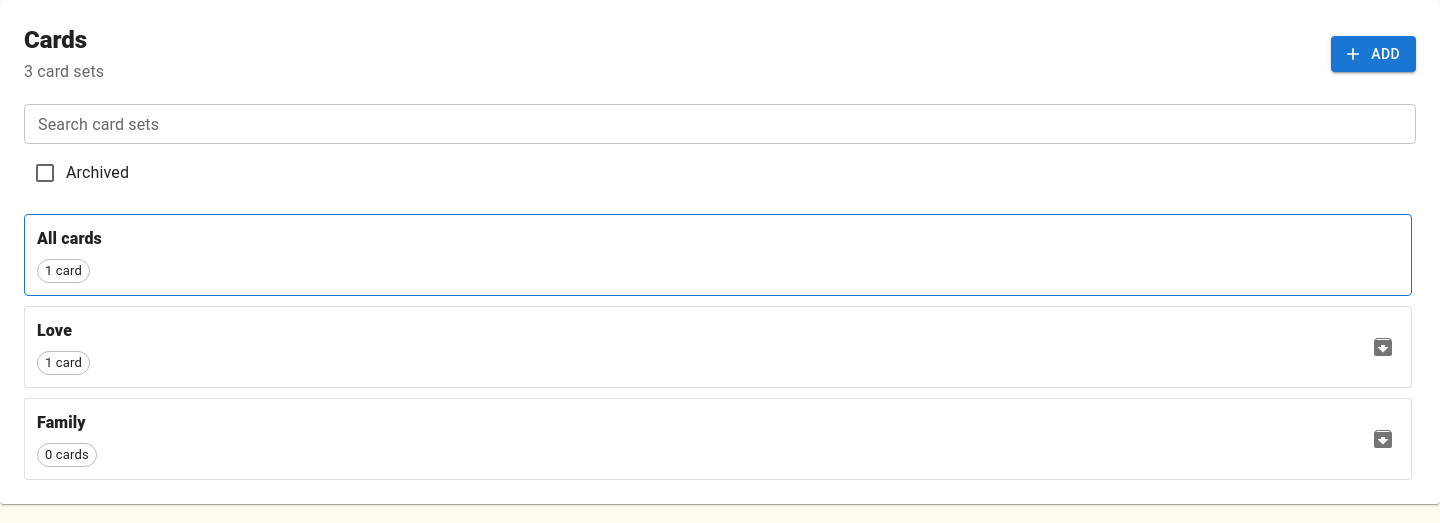
it: CardSetListView archive browsing › filters active and archived card sets and searches localized names
Expected: the element with test id "card_set_list__tile__all-cards" is shown, [24,214,1412,296]
Expected: the element with test id "card_set_list__tile__set-love" is shown, [24,306,1412,388]
Type "сем" into the field labelled "Search card sets" at (720, 124), box [24,104,1416,144]
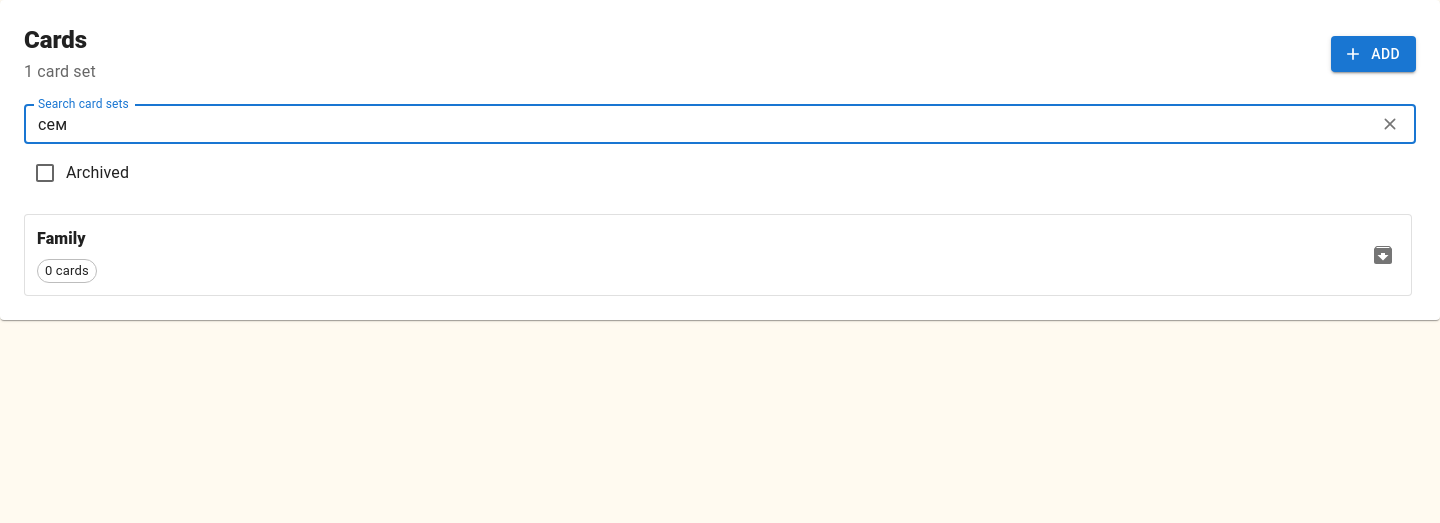
Expected: the element with test id "card_set_list__tile__set-family" is shown, [24,214,1412,296]
Now the element with test id "card_set_list__tile__all-cards" is gone
Now the element with test id "card_set_list__tile__set-love" is gone
Click the button named "Clear card set search" at (1390, 124), box [1375,109,1405,139]
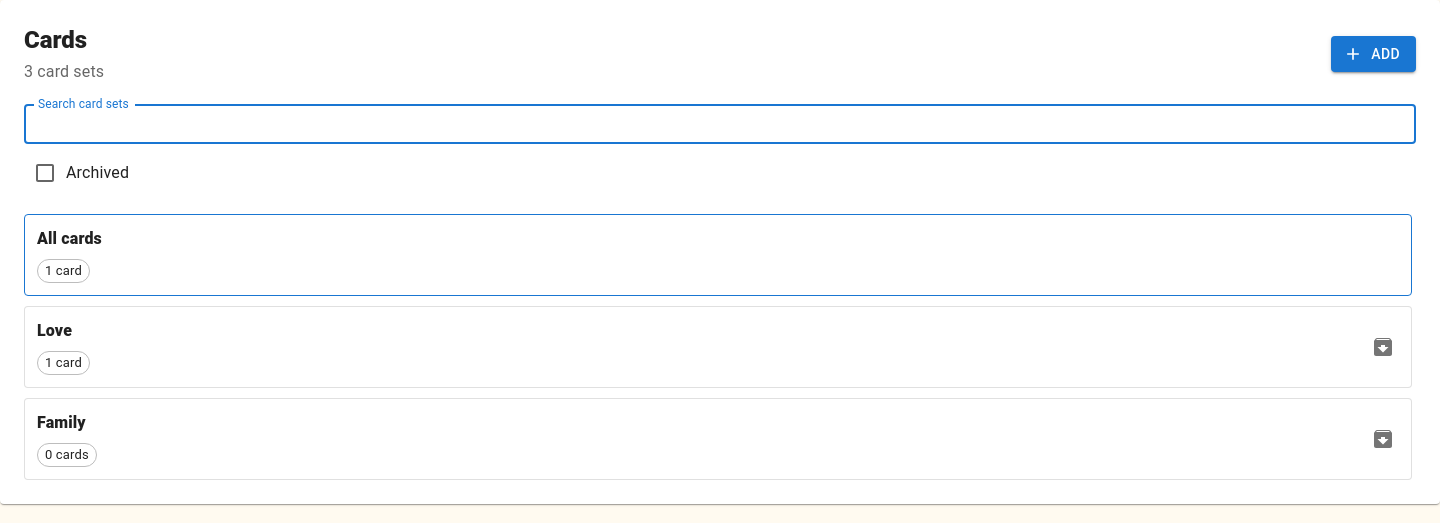
Now the field labelled "Search card sets" is empty, box [24,104,1416,144]
Now the element with test id "card_set_list__tile__all-cards" is shown, box [24,214,1412,296]
Now the element with test id "card_set_list__tile__set-love" is shown, box [24,306,1412,388]
Click the checkbox labelled "Archived" at (81, 173), box [33,161,129,185]
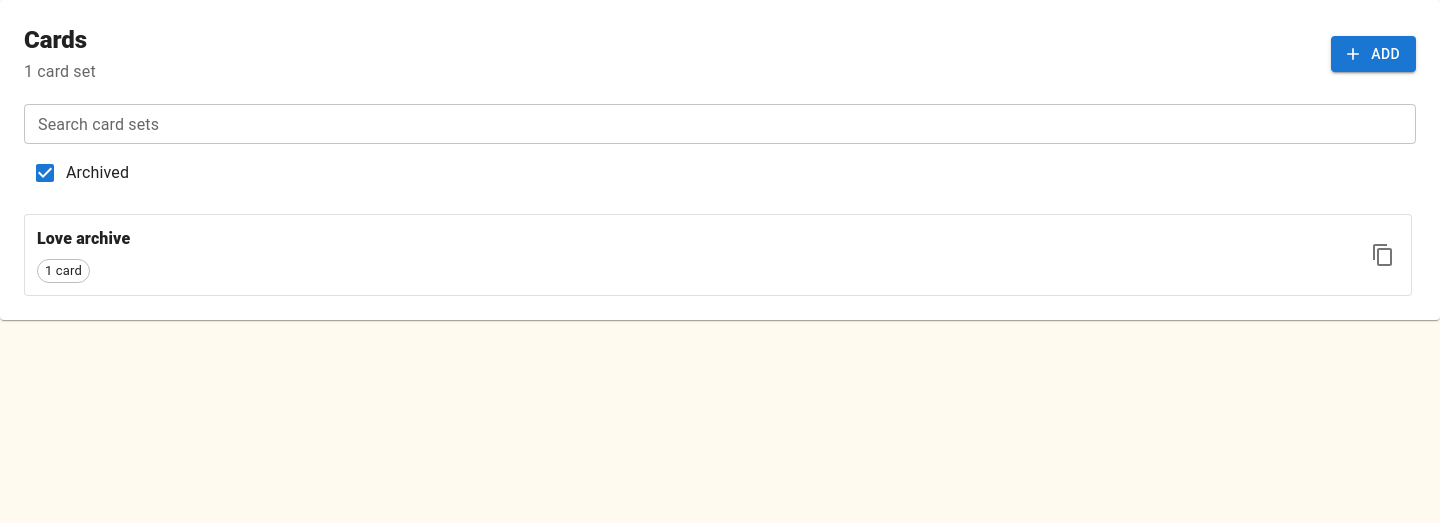
Now the element with test id "card_set_list__tile__all-cards" is gone
Now the element with test id "card_set_list__tile__set-love" is gone
Now the element with test id "card_set_list__tile__set-old-love" is shown, box [24,214,1412,296]
